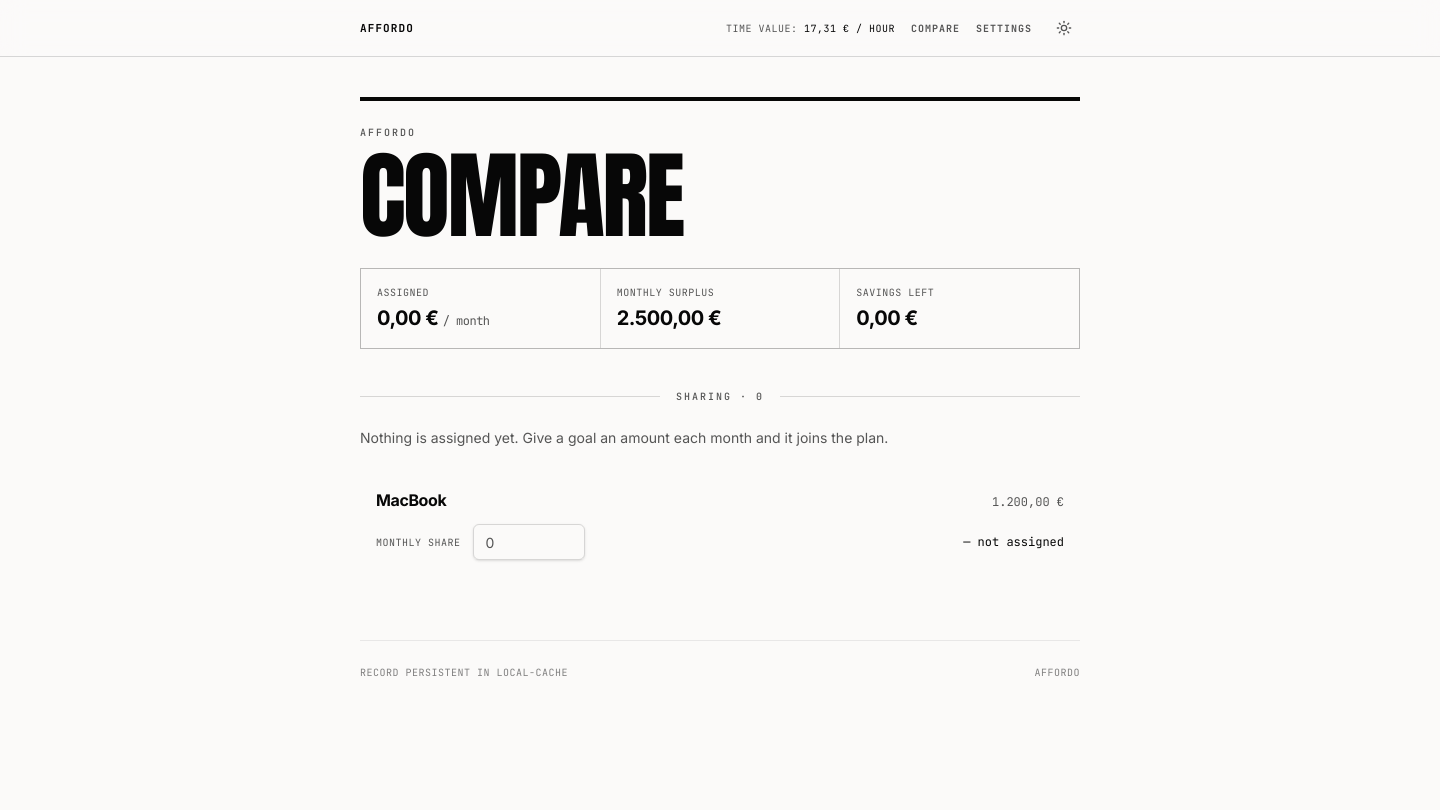
assigning a Share › adds it to the assigned total
Type "250" into the field labelled "Monthly share" at (528, 542), box x1=472 y1=524 x2=584 y2=560
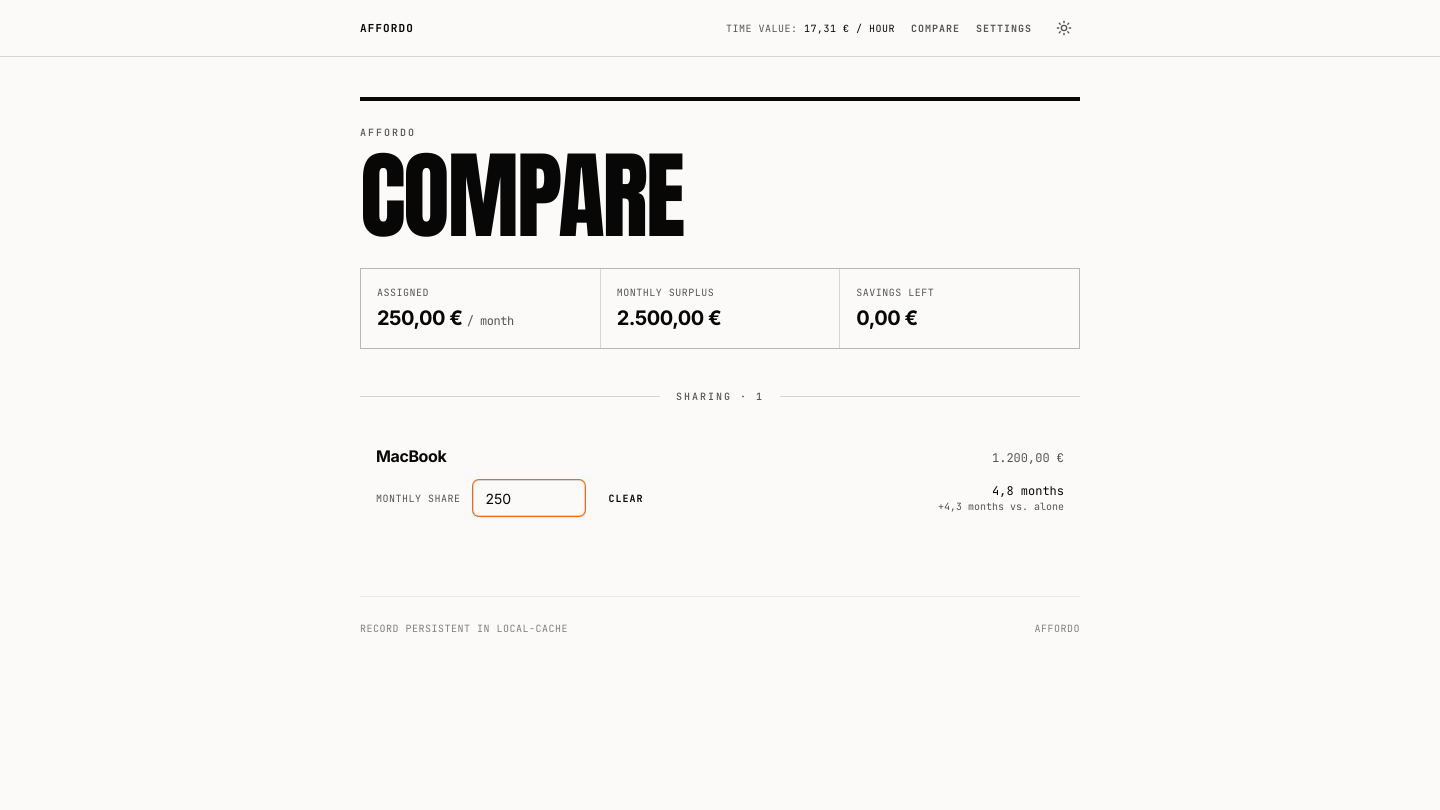
expect the element with test id "compare-assigned" shows "250": met, box x1=377 y1=306 x2=462 y2=330
